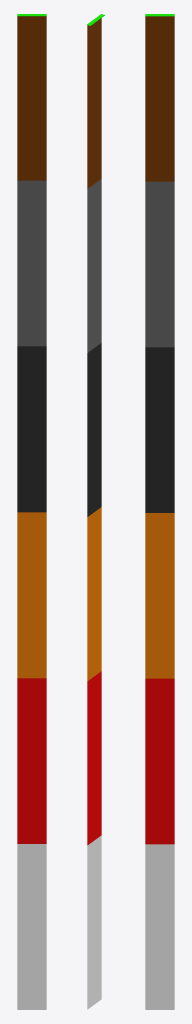
The model's file is MineMinigame-Merged.fbx.
3 renders of one model, left to right at view 1: azimuth 90°, elevation 25°; view 2: azimuth 150°, elevation 25°; view 3: azimuth 270°, elevation 25°, orthographic.
Parts seen in each view (by area): view 1: Ground; view 2: Ground; view 3: Ground.
Boxes of the visible parts, x1,y1,x2,y2 form: Ground: (17,14,46,1009); Ground: (87,14,104,1009); Ground: (145,14,174,1009).
Size of the model in its own units: 1000 by 240070 by 6400.
